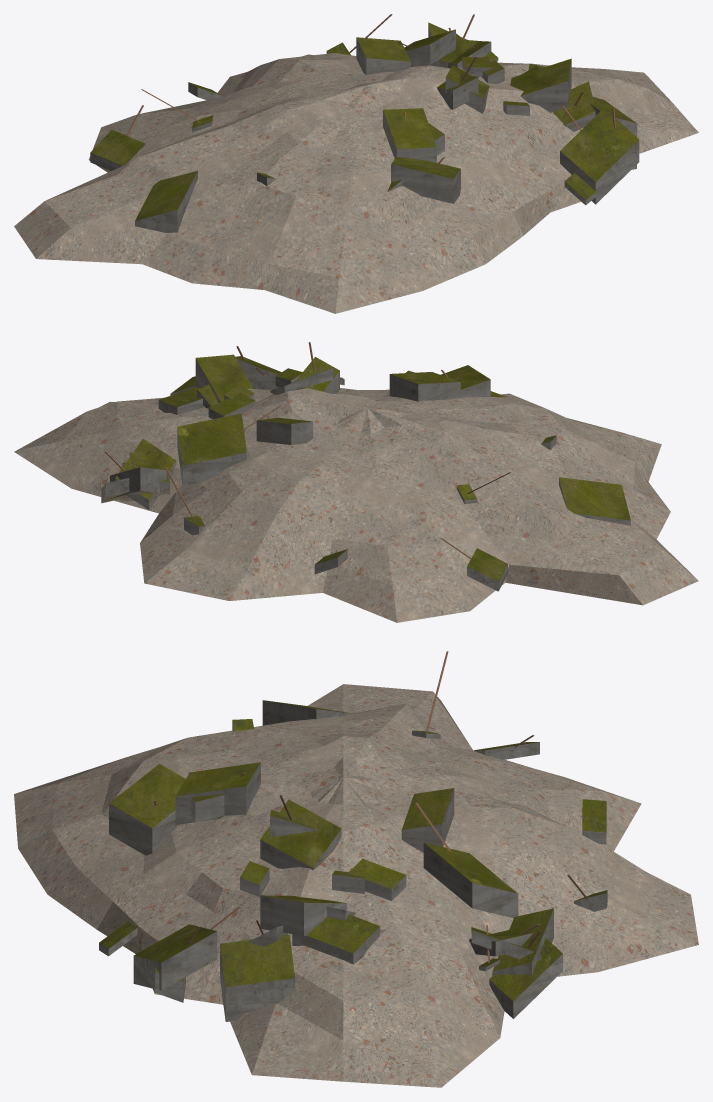
Rendered from rubble_a.gltf.
3 renders of one model, top to bottom at view 1: azimuth 30°, elevation 25°; view 2: azimuth 150°, elevation 25°; view 3: azimuth 270°, elevation 25°, orthographic. The views are drawn at different scales.
Parts seen in each view (by area): view 1: rubble_a; view 2: rubble_a; view 3: rubble_a.
Part boxes in pixels (<box>): rubble_a: <box>14,14,698,313</box>; rubble_a: <box>14,342,698,622</box>; rubble_a: <box>14,651,698,1087</box>.
Size of the model in its own units: 12.25 by 2.2 by 8.93.
